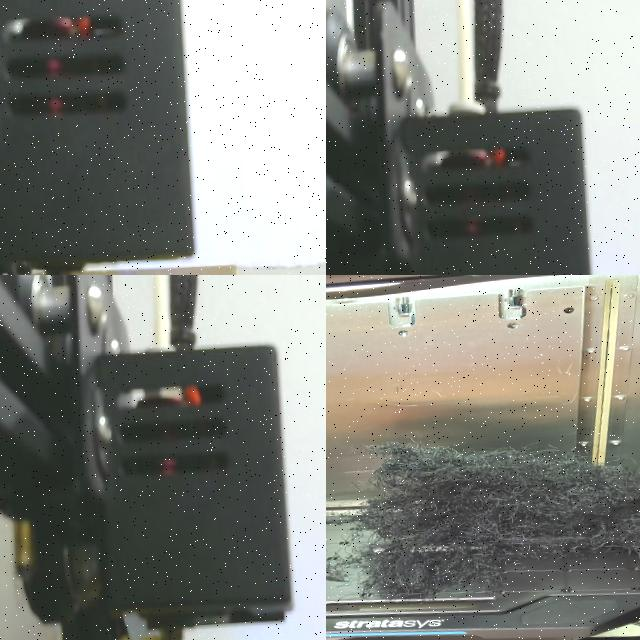spaghetti: (326, 413, 640, 625)
